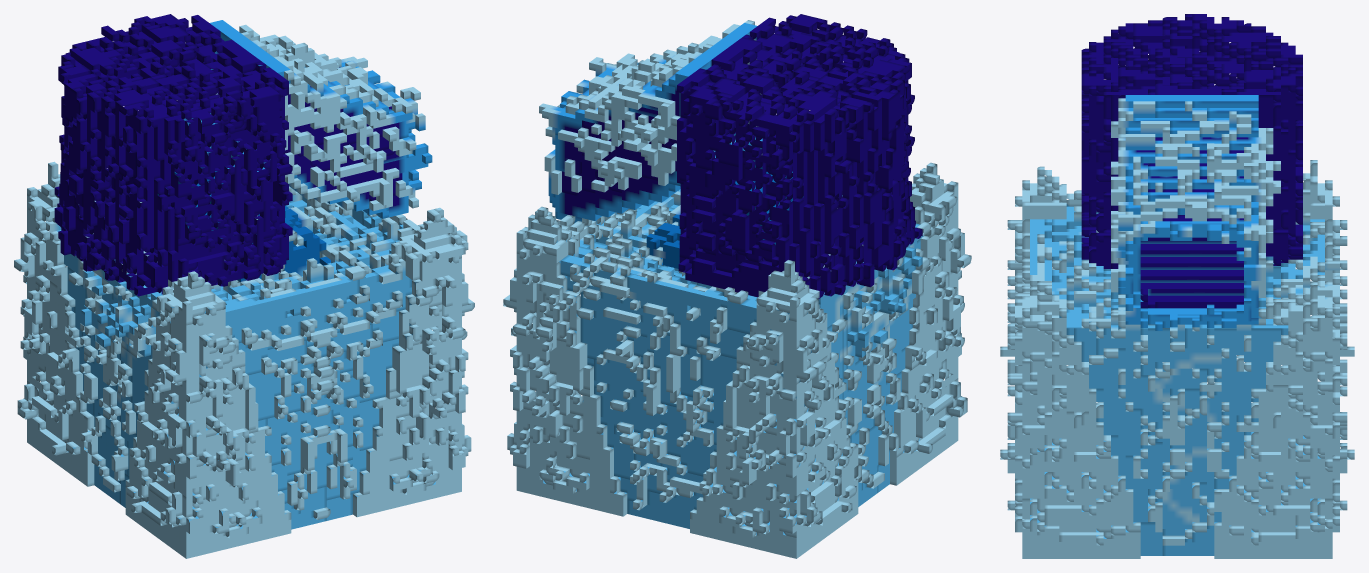
File: Cañon Hielo.dae
3 renders of one model, left to right at view 1: azimuth 30°, elevation 25°; view 2: azimuth 150°, elevation 25°; view 3: azimuth 270°, elevation 25°, orthographic. The views are drawn at different scales.
Visible parts, largest first — view 1: Node-local, Node (1)-local; view 2: Node-local, Node (1)-local; view 3: Node-local, Node (1)-local.
Boxes of the visible parts, left/top/right/bottom form: Node-local: left=14, top=161, right=474, bottom=558; Node (1)-local: left=54, top=14, right=432, bottom=296; Node-local: left=503, top=162, right=971, bottom=558; Node (1)-local: left=539, top=14, right=922, bottom=298; Node-local: left=1000, top=160, right=1354, bottom=558; Node (1)-local: left=1081, top=14, right=1302, bottom=330.
Bounding box in the file's own units: 49 × 60 × 48.
Materials: 2 (2 with a texture image).
